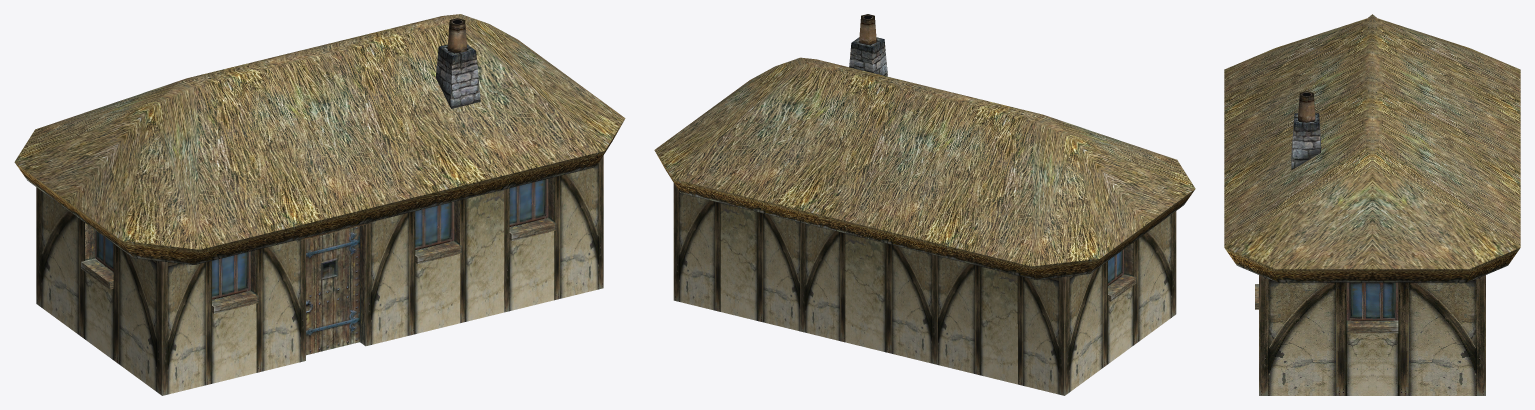
The model's file is S_home03.glb.
3 views of the same model, side by side, from view 1: azimuth 30°, elevation 25°; view 2: azimuth 150°, elevation 25°; view 3: azimuth 270°, elevation 25° (orthographic). The views are drawn at different scales.
Parts seen in each view (by area): view 1: S_home03-col; view 2: S_home03-col; view 3: S_home03-col.
Boxes of the visible parts, left/top/right/bottom form: S_home03-col: left=14, top=14, right=625, bottom=395; S_home03-col: left=654, top=14, right=1195, bottom=395; S_home03-col: left=1224, top=14, right=1520, bottom=395.
Bounding box in the file's own units: 10.14 × 5.32 × 5.74.
8 materials, 8 textured.
